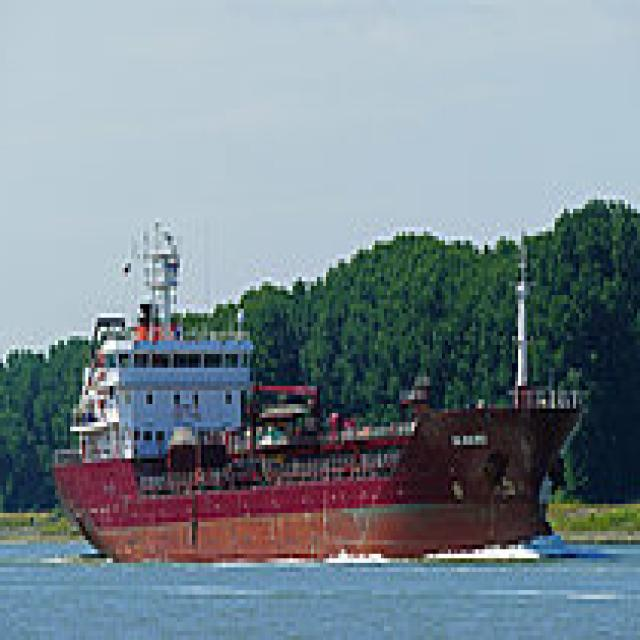Tanker: (52, 218, 600, 563)
